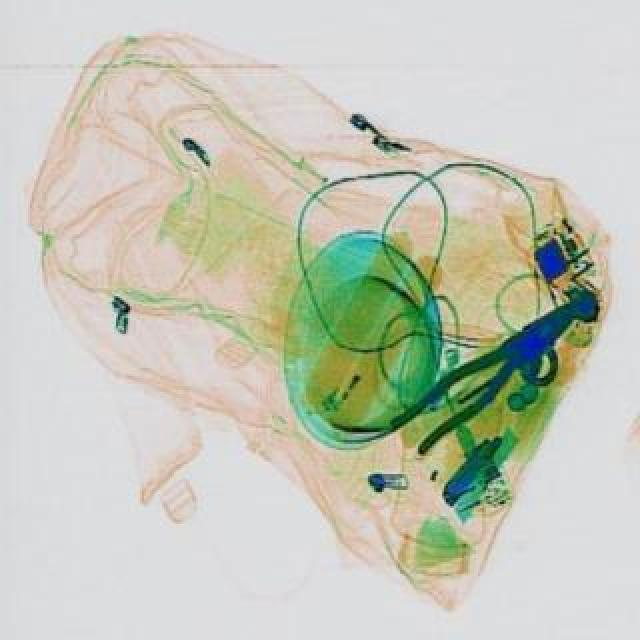wrench: (382, 284, 592, 458)
